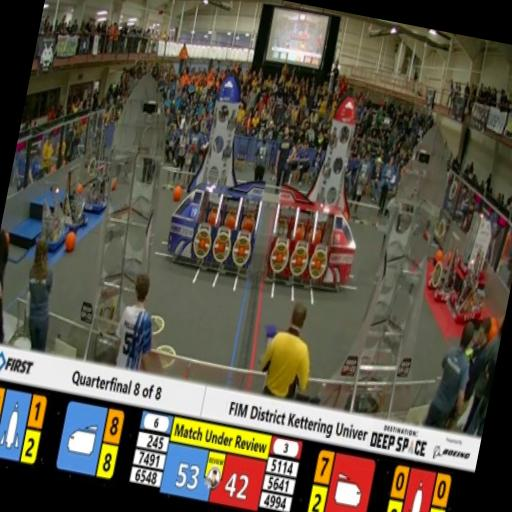robot: (457, 199, 500, 283), (31, 178, 78, 252), (446, 254, 492, 326), (74, 151, 120, 219), (428, 228, 470, 302), (57, 168, 97, 226)
